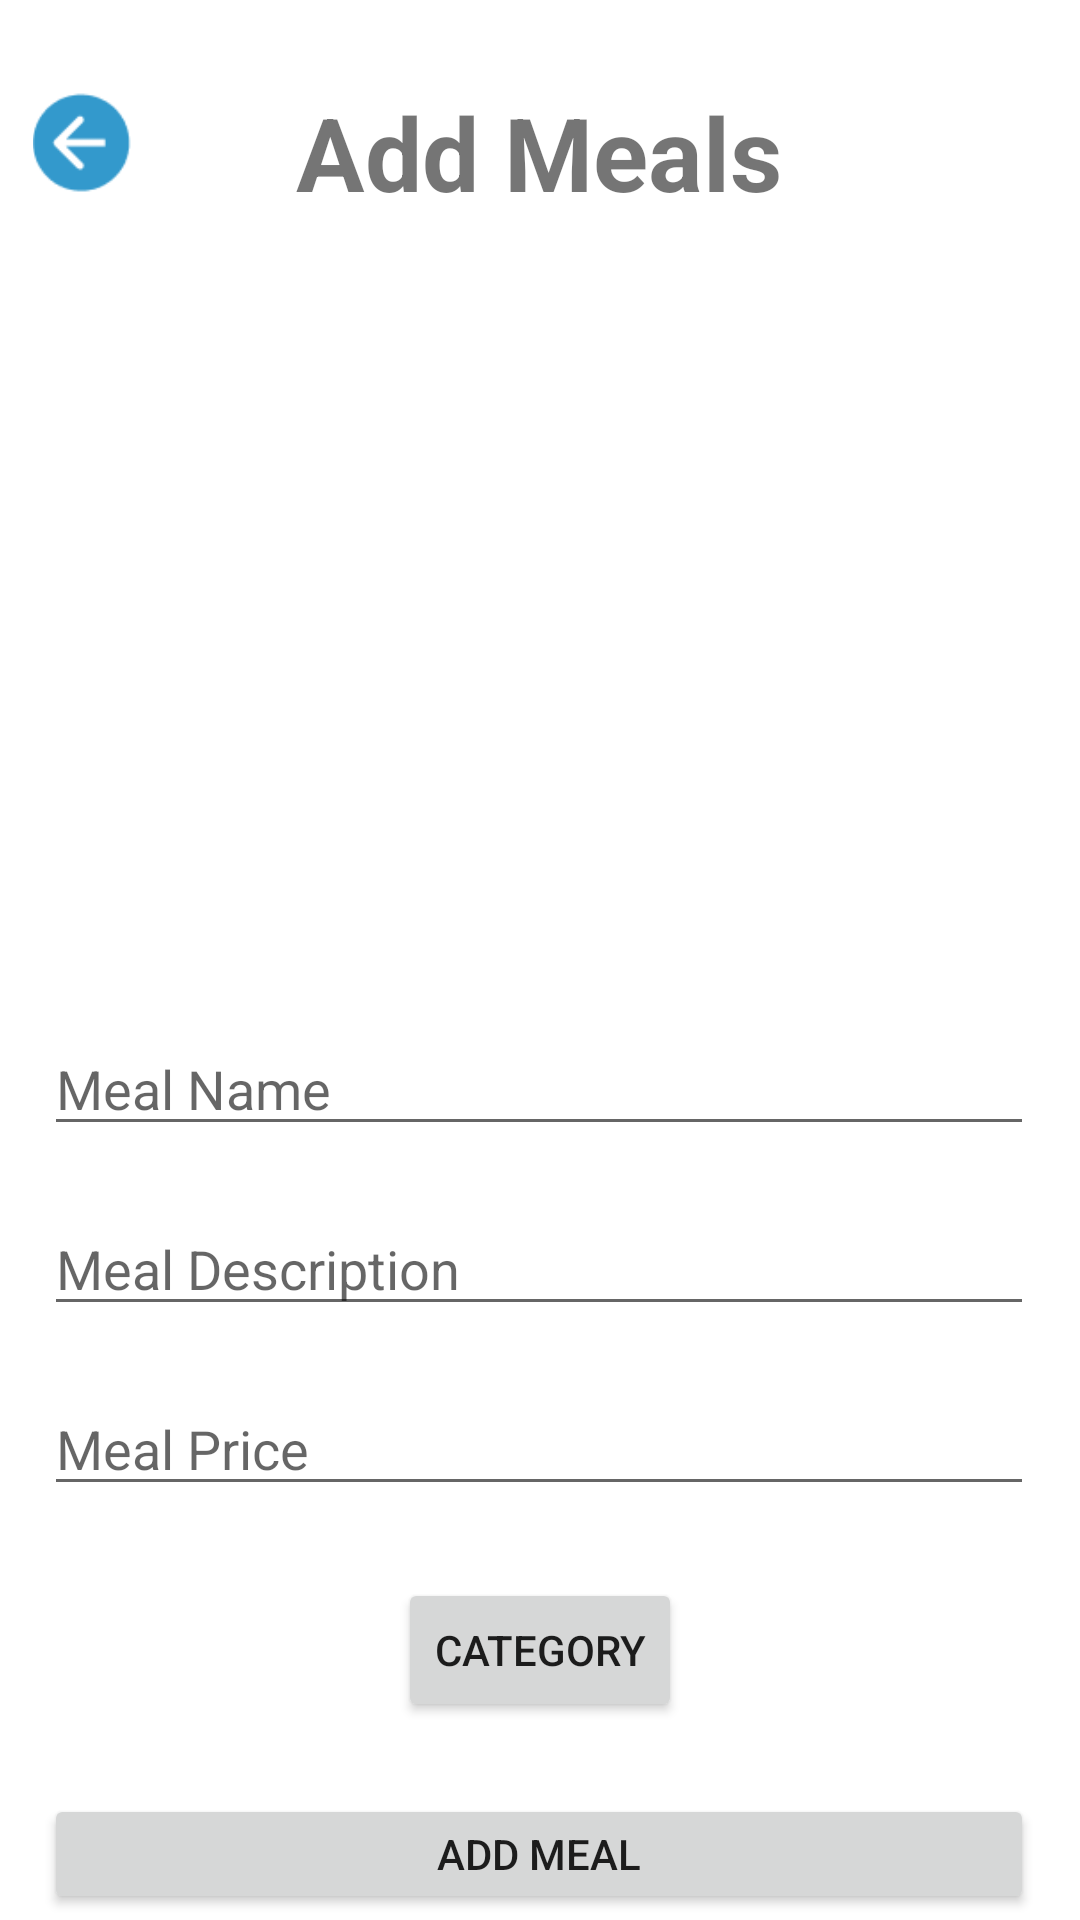

Locate icon controls on the screen. Image size 1080 x 1920, boxes as (x1, y1, x2, y2).
previous: (33, 93, 131, 192)
